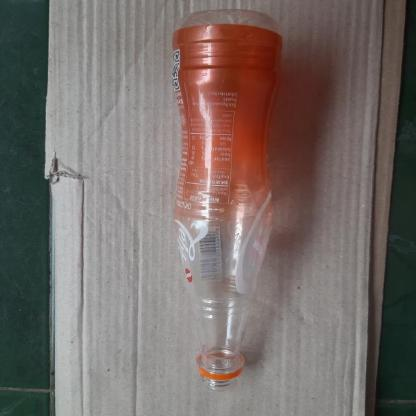Plastic Bottle: (171, 8, 282, 392)
